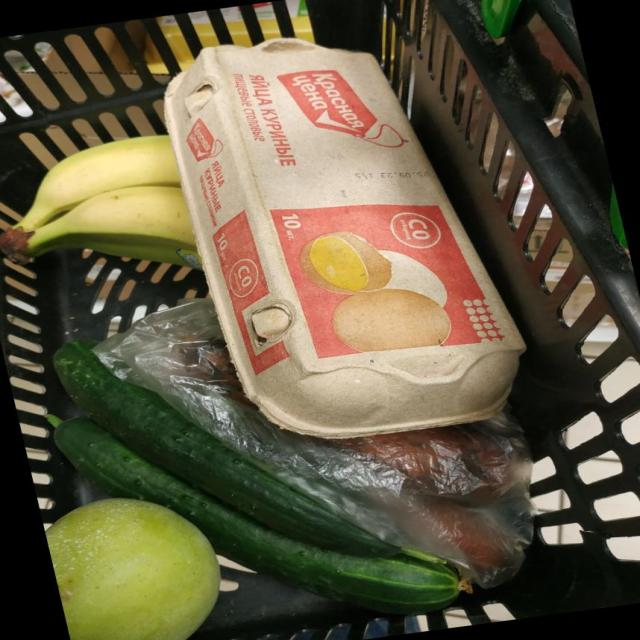Apple: (45, 498, 220, 640)
Banana: (15, 135, 181, 231), (24, 185, 196, 255), (85, 241, 203, 270)
Carrot: (336, 427, 500, 568)
Cucumber: (54, 418, 460, 613), (53, 340, 399, 557)
Eggs: (164, 38, 524, 438)
